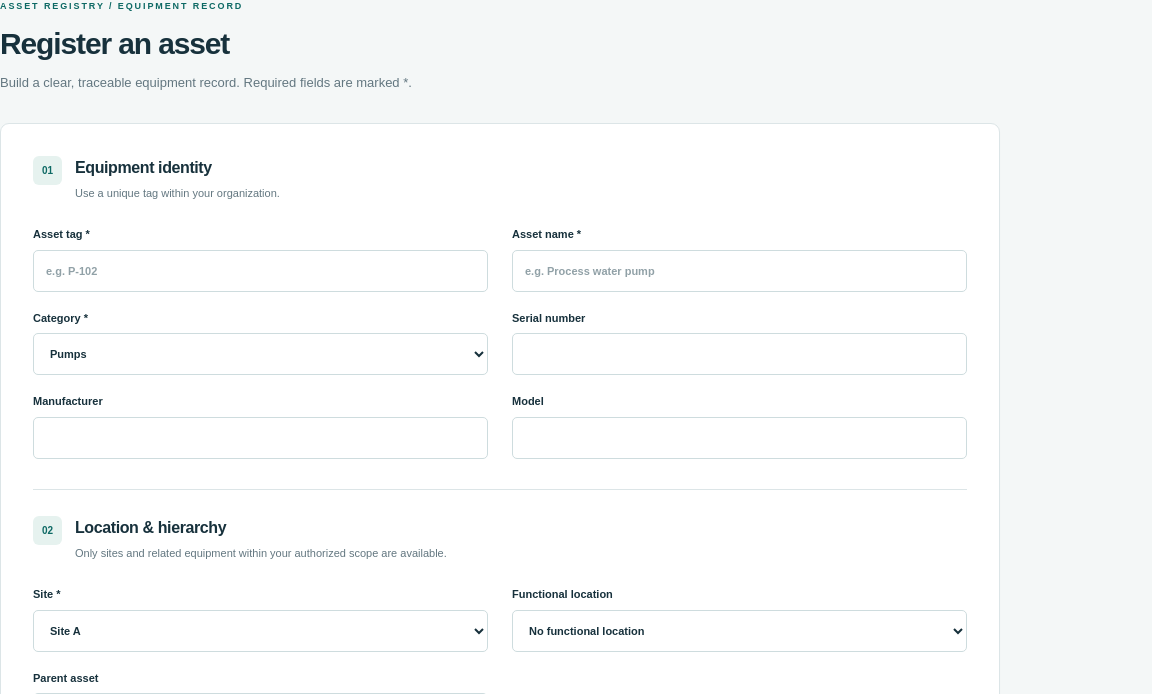
Test: connected forms › preserves entered asset data and displays server validation errors
In the field labelled "Asset tag *": (260, 271) [33,250,488,292], type "P-101"
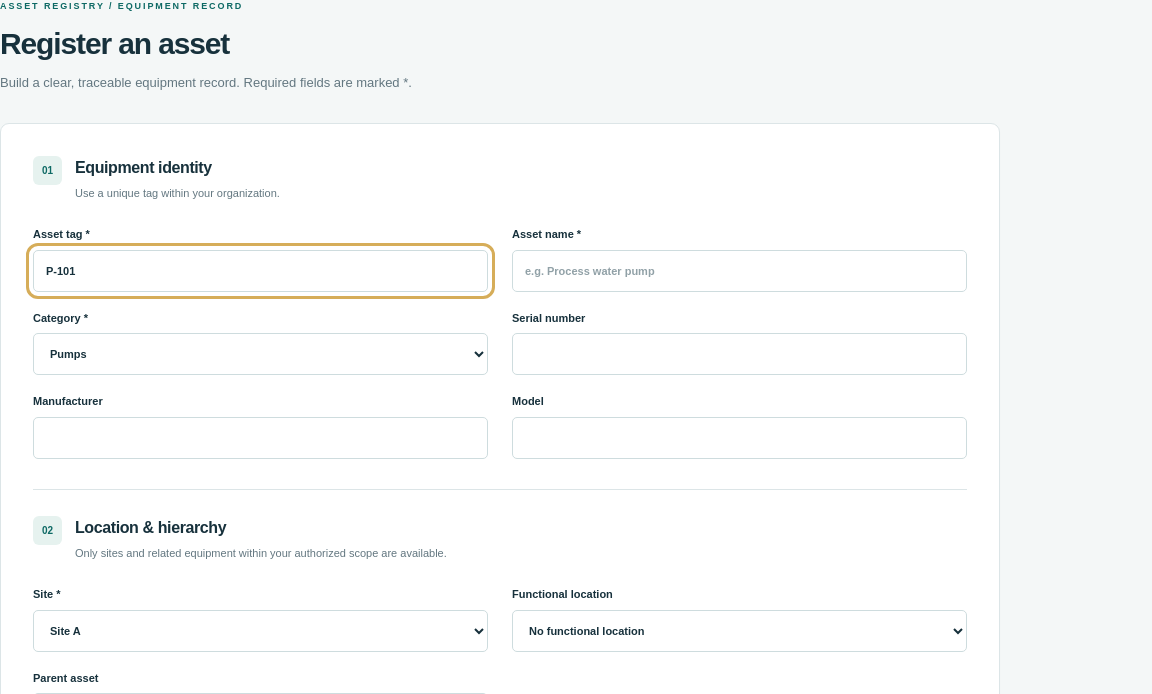
In the field labelled "Asset name *": (740, 271) [512,250,967,292], type "Synthetic pump"
(page scrolled)
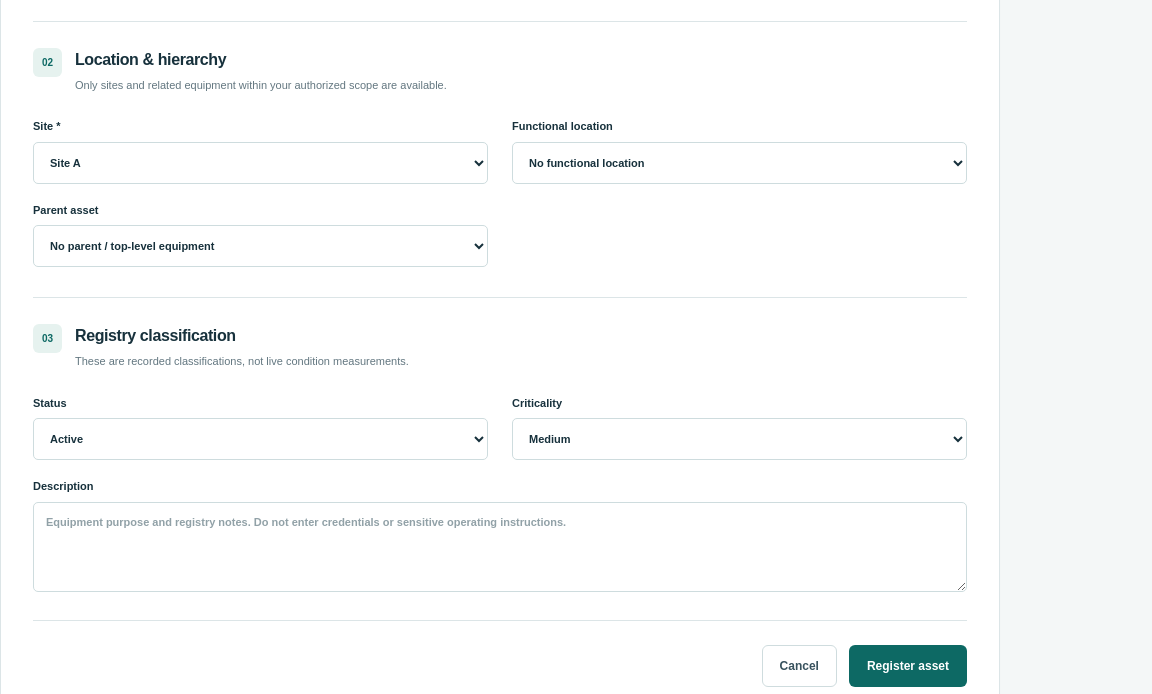
Click the button "Register asset": (908, 666) [849,645,967,687]
(page scrolled)
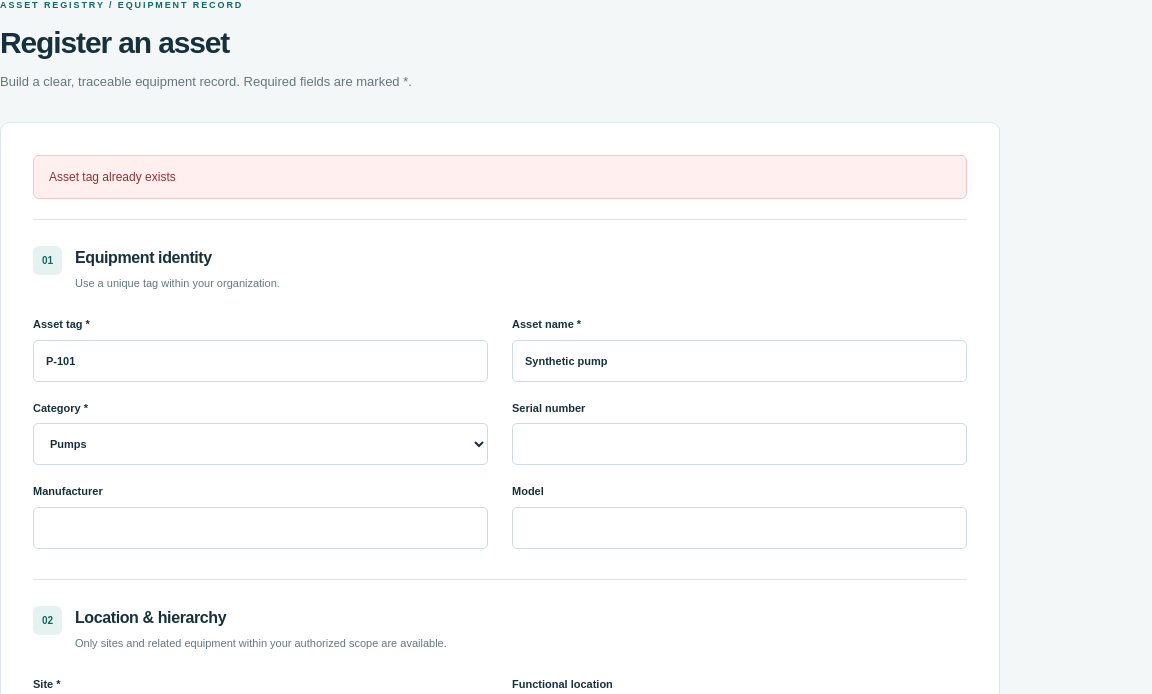
Expected: the message reads "Asset tag already exists", [49,170,176,184]
